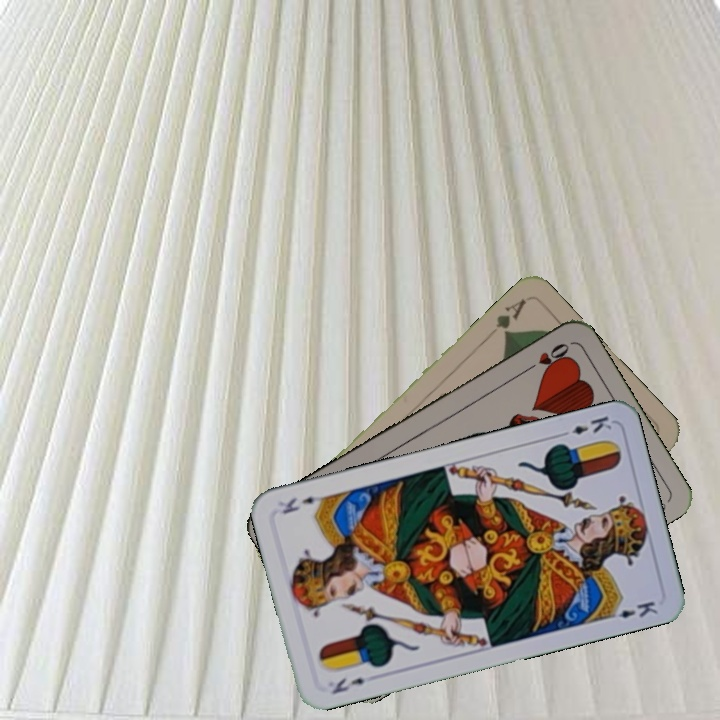EK: (555, 411, 615, 440), (328, 673, 368, 697)
GA: (491, 295, 529, 340)
HO: (519, 338, 572, 376)
